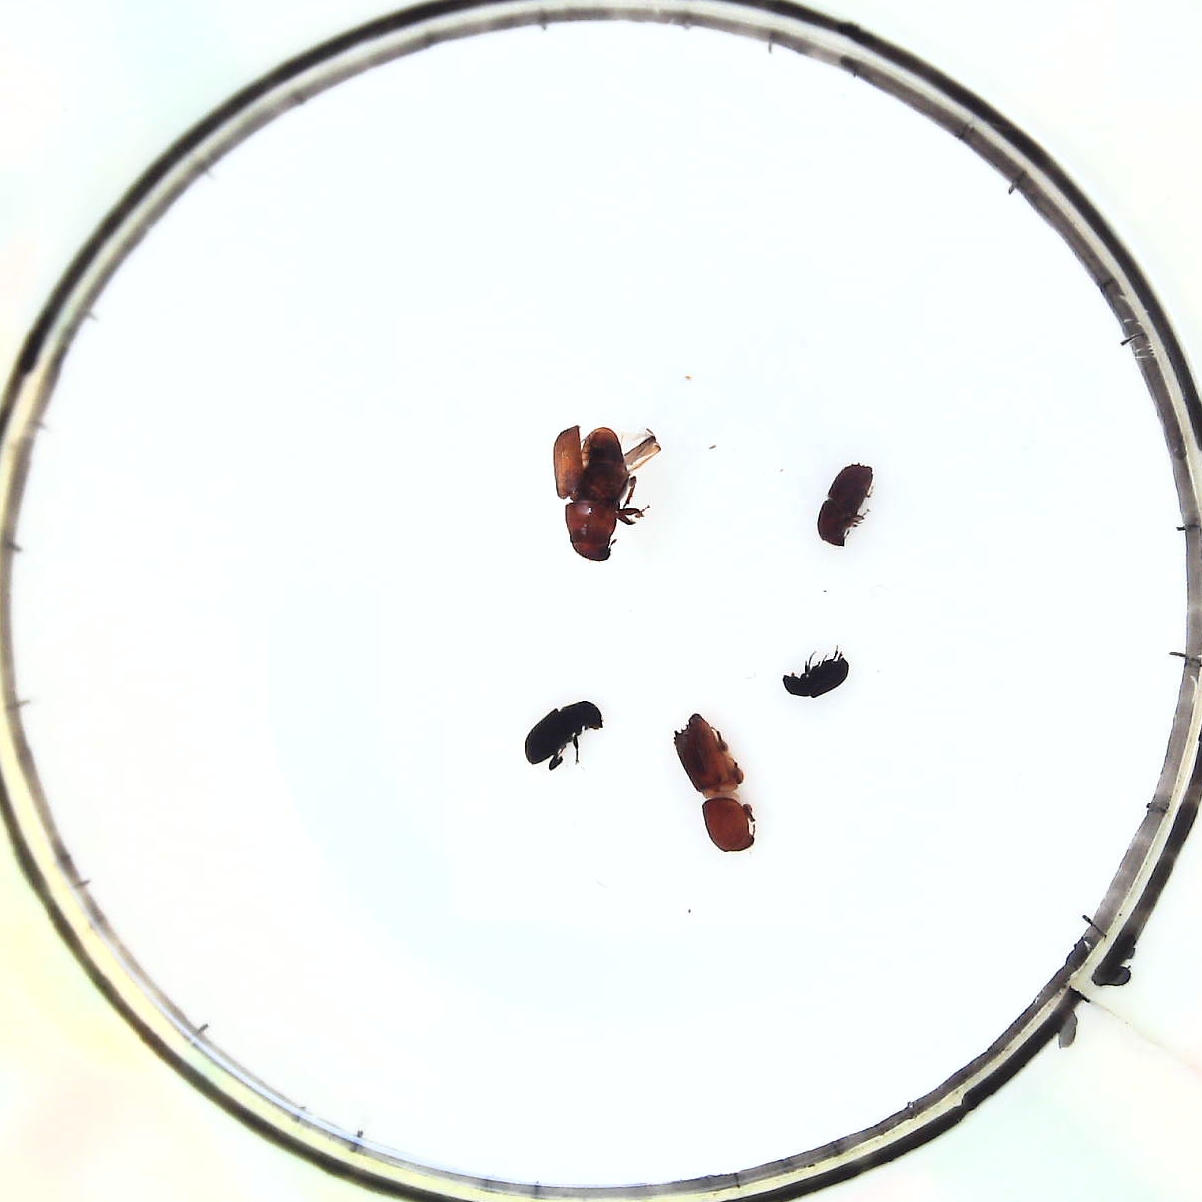Boerner: (682, 711, 760, 848)
Leconte: (549, 419, 662, 558)
Linnaeus: (808, 458, 876, 543)
armandi: (525, 693, 600, 763)
coleoptera: (778, 651, 851, 704)
